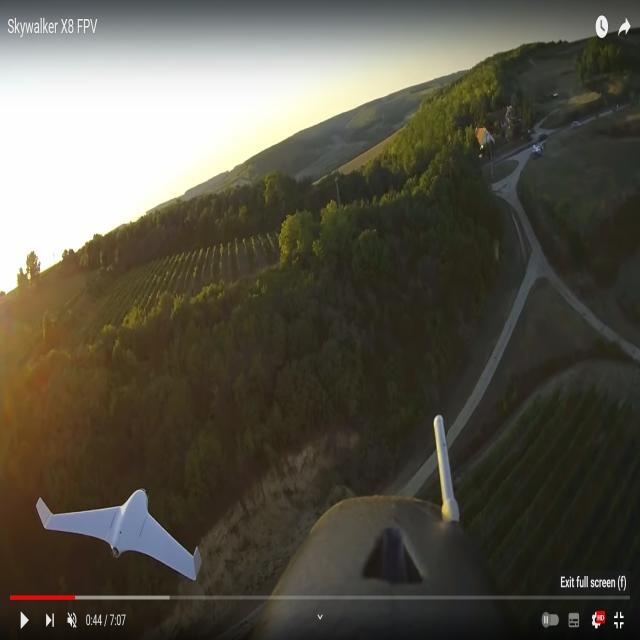iha: (0, 525, 140, 546)
